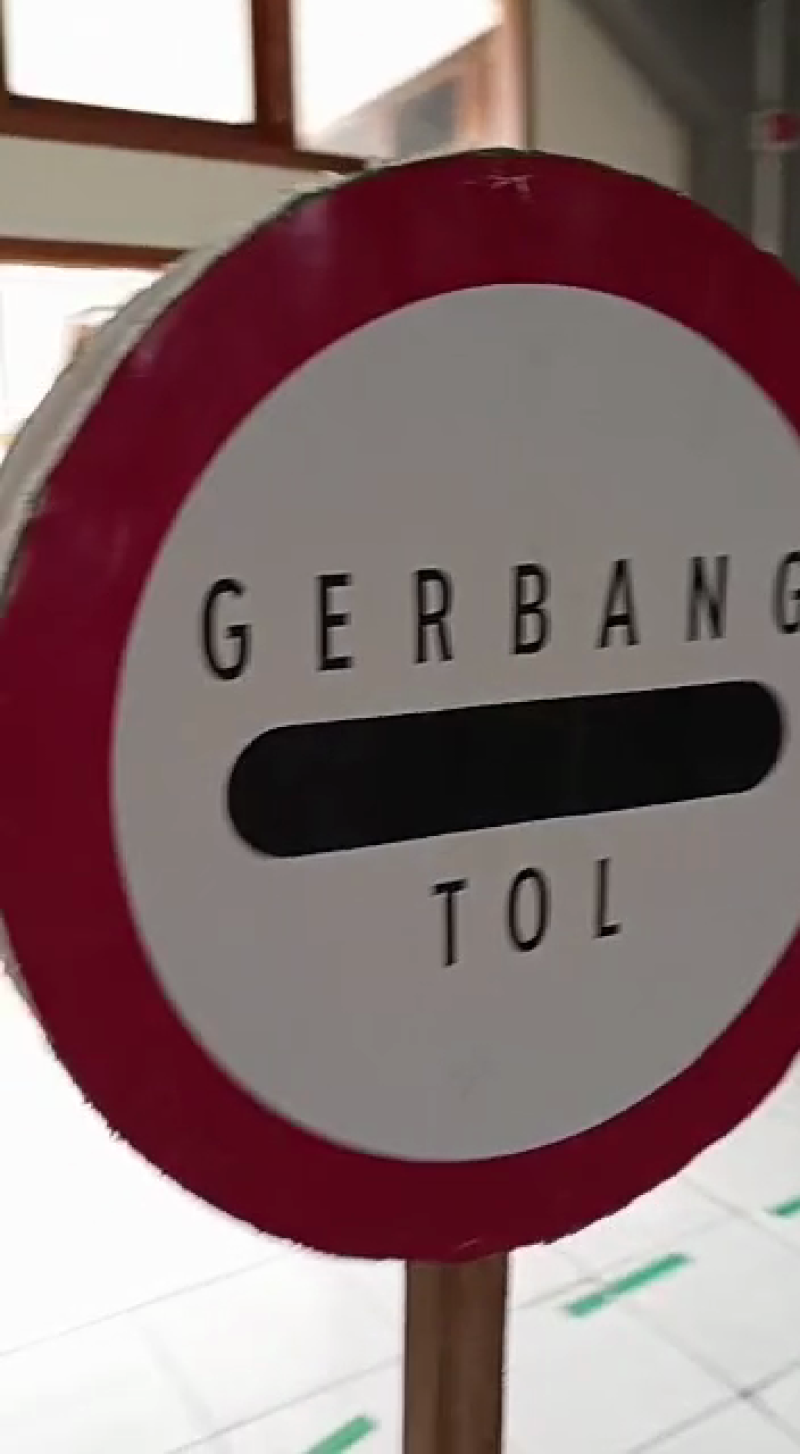gerbang tol: (1, 140, 800, 1261)
